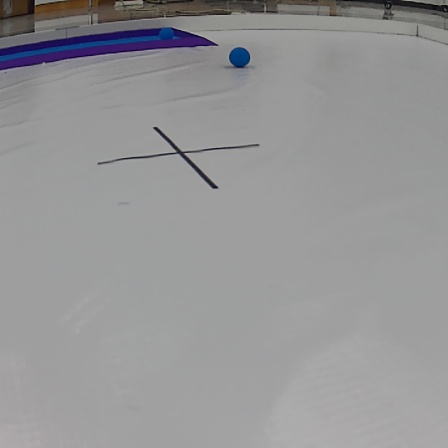blue: (229, 46, 252, 71), (160, 26, 178, 41)
blue_aim: (0, 26, 217, 66)
